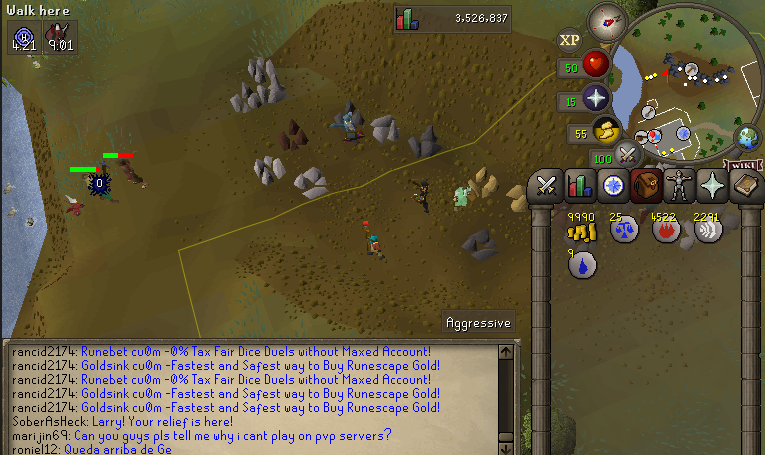depleted: (458, 226, 501, 264), (406, 121, 444, 160)
iron: (275, 117, 309, 152)
